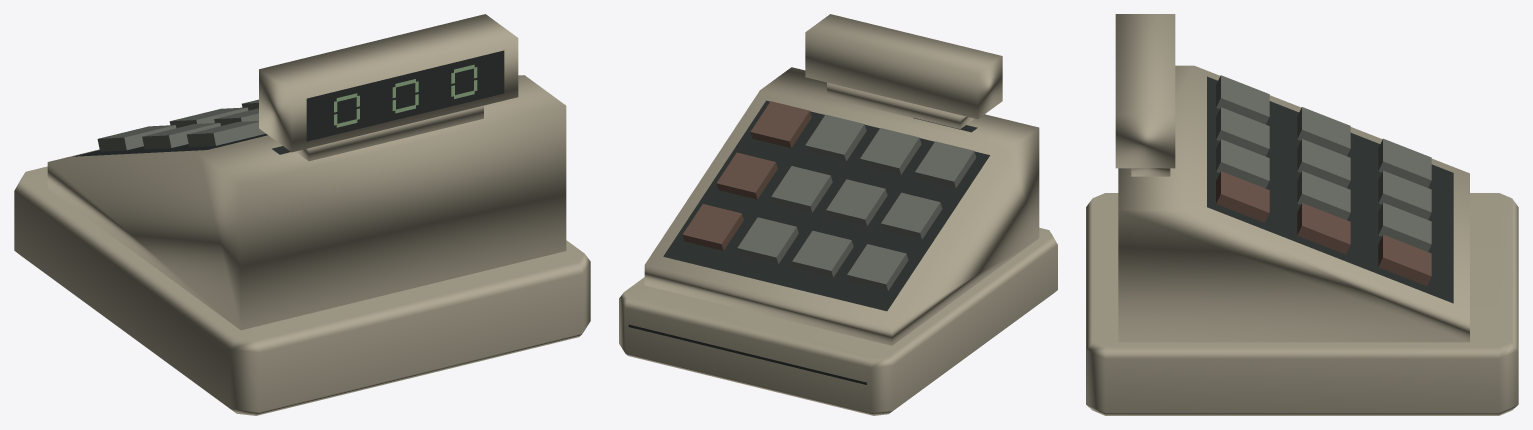
The model's file is Diner_Cash_Register.fbx.
3 views of the same model, side by side, from view 1: azimuth 30°, elevation 25°; view 2: azimuth 150°, elevation 25°; view 3: azimuth 270°, elevation 25° (orthographic). The views are drawn at different scales.
Visible parts, largest first — view 1: Diner_Cash_Register; view 2: Diner_Cash_Register; view 3: Diner_Cash_Register.
Boxes of the visible parts, x1=… form: Diner_Cash_Register: x1=14, y1=14, x2=590, y2=415; Diner_Cash_Register: x1=619, y1=14, x2=1057, y2=415; Diner_Cash_Register: x1=1086, y1=14, x2=1518, y2=415.
Size of the model in its own units: 0.35 by 0.28 by 0.4003.
